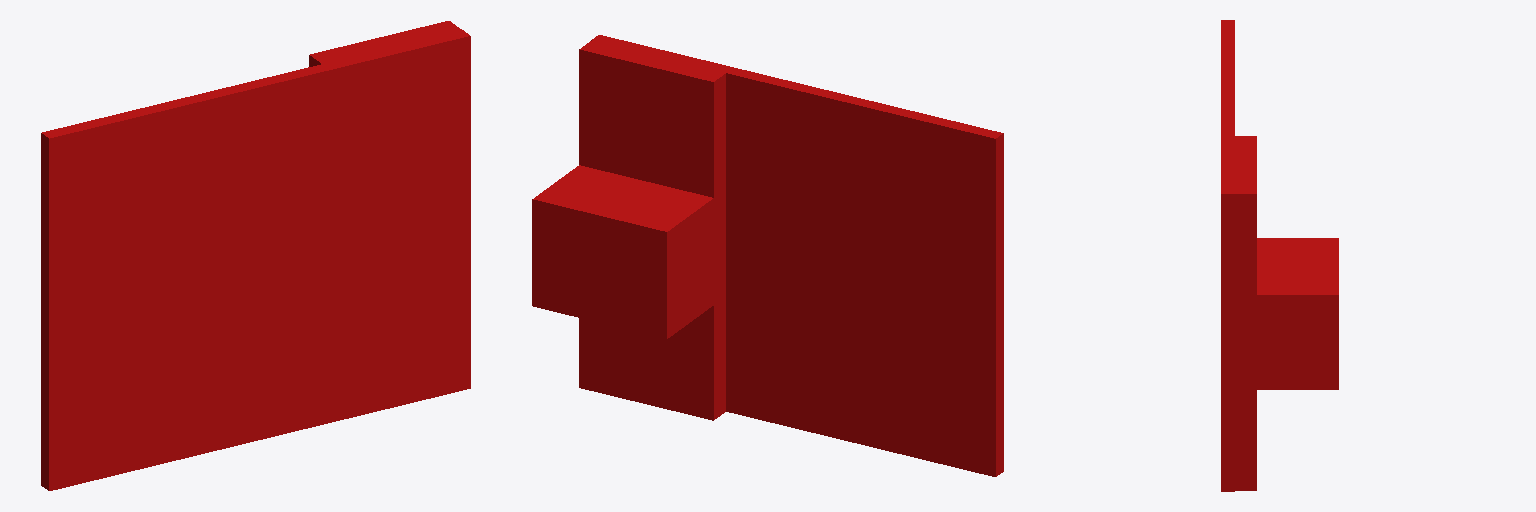
The robot description file, URDF, robot "custom_object":
<?xml version="1.0"?>
<robot name="custom_object">
    <link name="base_link">
        <visual>
            <geometry>
                <mesh filename="meshes/Part2_updated.dae" scale="0.001 0.001 0.001"/>
            </geometry>
            <material name="black">
                <color rgba="0.8 0.1 0.1 1"/>
            </material>
        </visual>
        <collision>
            <geometry>
                <mesh filename="meshes/Part2_updated.dae" scale="0.001 0.001 0.001"/>
            </geometry>
        </collision>
        <inertial>
            <mass value="1.0"/>
            <origin xyz="0 0 0" rpy="0 0 0"/>
            <inertia ixx="0.1" ixy="0.0" ixz="0.0" iyy="0.1" iyz="0.0" izz="0.1"/>
        </inertial>
    </link>
</robot>

--- Render facts (derived) ---
3 views of the same robot in one strip: view 1: azimuth 30°, elevation 25°; view 2: azimuth 150°, elevation 25°; view 3: azimuth 270°, elevation 25° (orthographic).
Model custom_object with 1 links and 0 joints (none), rooted at base_link, posed every joint at zero.
Visible links, largest first — view 1: base_link; view 2: base_link; view 3: base_link.
Link boxes in pixels (left/top/right/bottom): base_link: left=41, top=21, right=470, bottom=490; base_link: left=532, top=35, right=1003, bottom=476; base_link: left=1221, top=20, right=1338, bottom=491.
Size in the robot's own frame: 0.15 by 0.043 by 0.12 metres.
Meshes: 1 distinct files referenced, 1 mesh visuals loaded (1 Collada DAE).